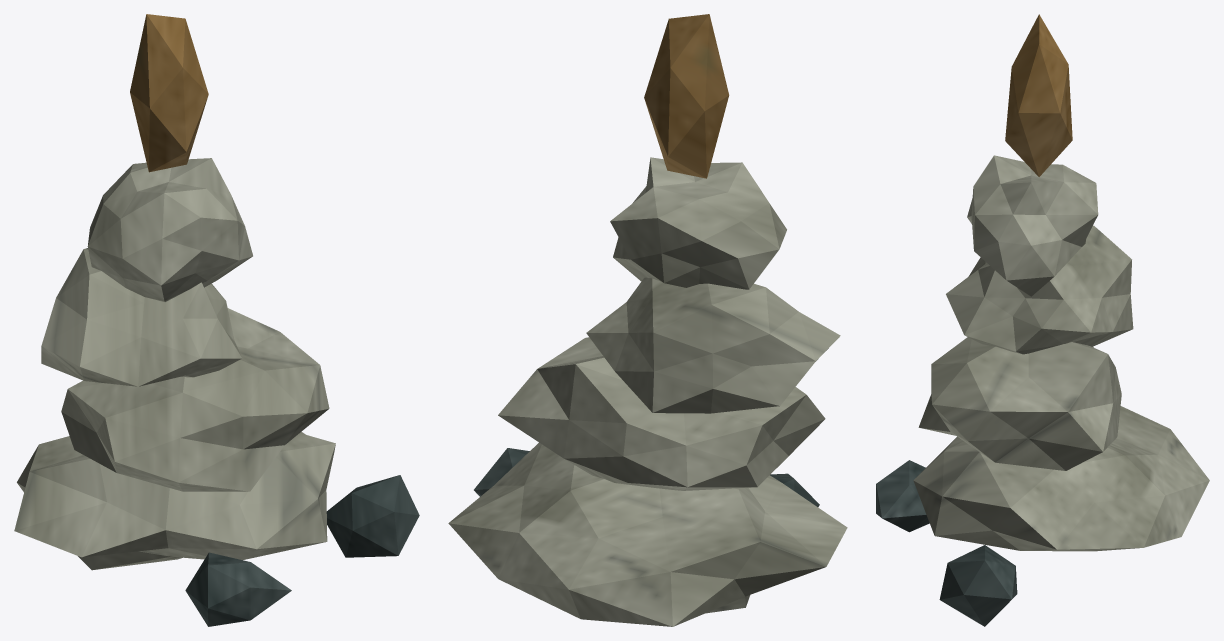
Rendered from 0610_cairn_10.glb.
The picture shows the model from 3 angles, left to right: view 1: azimuth 30°, elevation 25°; view 2: azimuth 150°, elevation 25°; view 3: azimuth 270°, elevation 25°; orthographic projection. The views are drawn at different scales.
Parts seen in each view (by area): view 1: stone_light, stone_dark, brass; view 2: stone_light, brass, stone_dark; view 3: stone_light, brass, stone_dark.
Boxes of the visible parts, x1=… form: stone_light: x1=14, y1=158, x2=335, y2=570; stone_dark: x1=185, y1=475, x2=419, y2=626; brass: x1=130, y1=14, x2=208, y2=172; stone_light: x1=448, y1=157, x2=847, y2=626; brass: x1=644, y1=14, x2=729, y2=178; stone_dark: x1=474, y1=448, x2=819, y2=506; stone_light: x1=913, y1=155, x2=1209, y2=551; brass: x1=1005, y1=14, x2=1072, y2=176; stone_dark: x1=876, y1=460, x2=1017, y2=626.
Bounding box in the file's own units: 1.26 × 1.88 × 1.11.
Materials: 3 (3 with a texture image).
